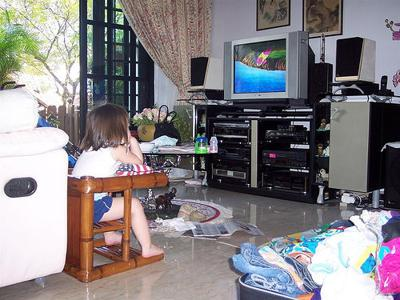person: (71, 103, 165, 258)
